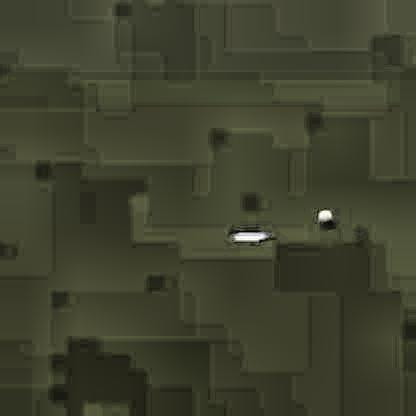golfball: (314, 206, 331, 221)
